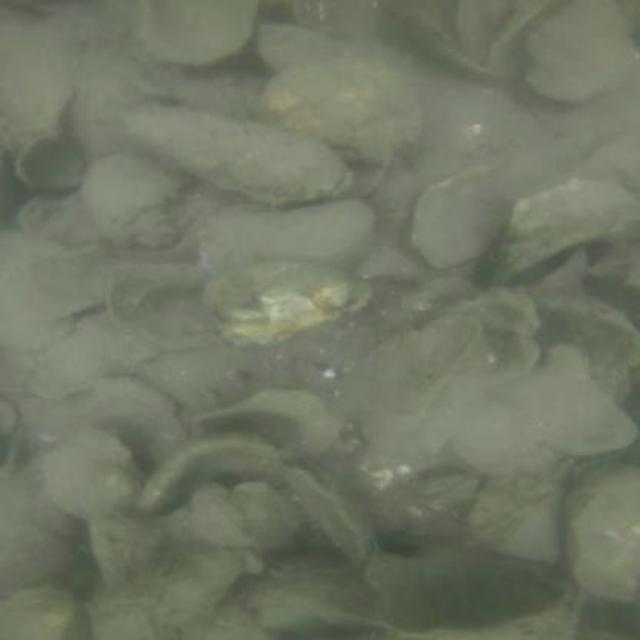Oyster-Closed: (123, 106, 340, 198), (365, 545, 578, 638), (256, 56, 416, 160), (204, 266, 378, 352), (493, 347, 633, 453), (493, 178, 640, 274), (201, 200, 373, 274), (521, 0, 640, 103), (85, 154, 210, 246), (0, 455, 78, 598), (466, 462, 572, 565), (105, 264, 212, 352), (133, 0, 270, 68), (43, 427, 146, 517), (414, 165, 502, 267), (575, 465, 640, 603), (283, 466, 372, 559), (255, 20, 396, 72), (0, 588, 87, 640), (14, 130, 84, 193)
